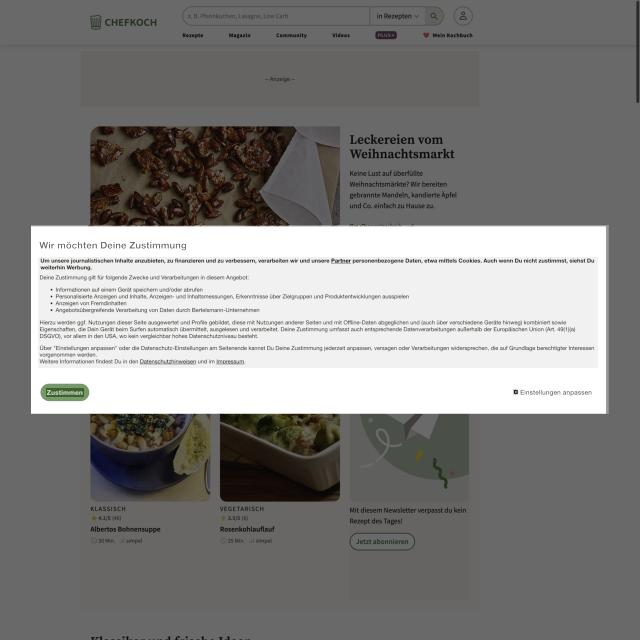CheckBox: (41, 240, 191, 253), (42, 384, 92, 402), (513, 389, 596, 397)
Input field: (40, 257, 600, 368)
carousel: (515, 389, 521, 395)
data feed: (48, 388, 86, 397)
header: (31, 225, 610, 414)
